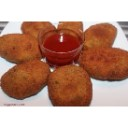cutlet: (1, 63, 49, 99), (49, 65, 90, 106), (83, 47, 128, 79), (1, 34, 42, 61), (84, 22, 118, 47), (24, 21, 55, 32), (60, 20, 83, 30)
